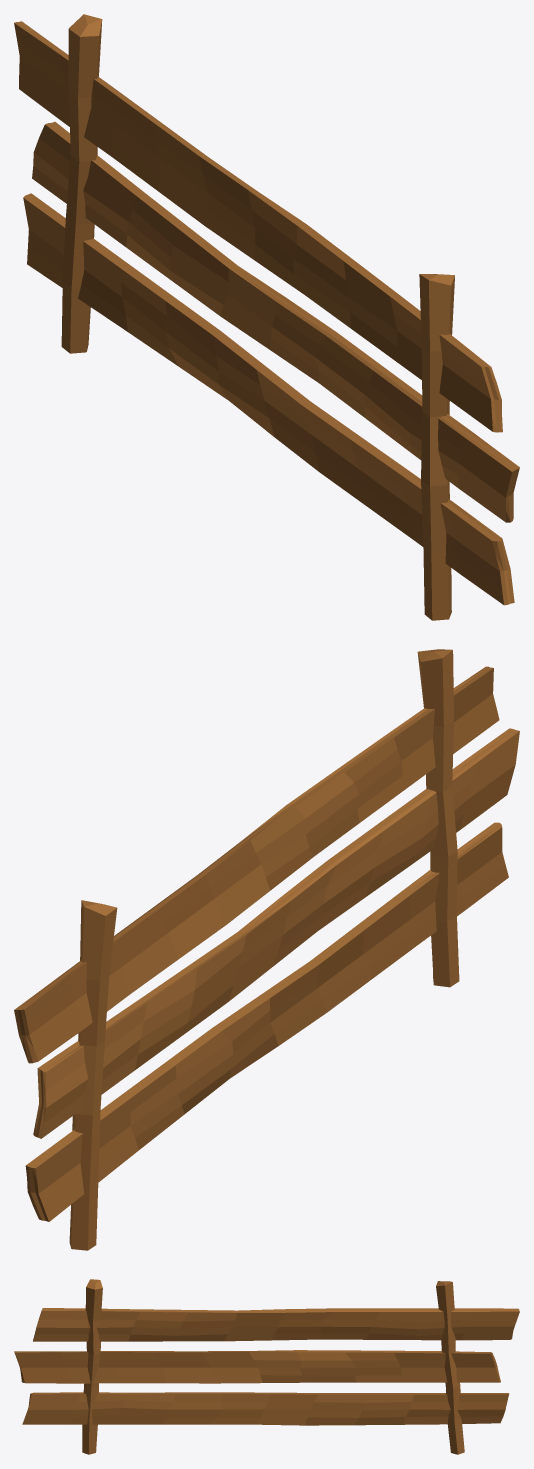
Rendered from fence.fbx.
3 views of the same model, one above another, from view 1: azimuth 30°, elevation 25°; view 2: azimuth 150°, elevation 25°; view 3: azimuth 270°, elevation 25° (orthographic). The views are drawn at different scales.
Visible parts, largest first — view 1: Latte, Latte_2, Latte_1, Cylinder_2, Cylinder; view 2: Latte, Latte_1, Latte_2, Cylinder_2, Cylinder; view 3: Latte_1, Latte_2, Latte, Cylinder, Cylinder_2.
Part boxes in pixels (<box>): Latte: <box>14,21,502,432</box>; Latte_2: <box>23,193,514,605</box>; Latte_1: <box>32,121,519,522</box>; Cylinder_2: <box>419,274,454,620</box>; Cylinder: <box>61,14,102,353</box>; Latte: <box>14,666,499,1063</box>; Latte_1: <box>33,728,519,1138</box>; Latte_2: <box>25,822,508,1221</box>; Cylinder_2: <box>417,649,459,987</box>; Cylinder: <box>69,900,117,1250</box>; Latte_1: <box>14,1350,500,1383</box>; Latte_2: <box>22,1392,509,1425</box>; Latte: <box>33,1308,519,1341</box>; Cylinder: <box>436,1281,464,1454</box>; Cylinder_2: <box>82,1279,102,1454</box>.
Bounding box in the file's own units: 7.91 × 69.67 × 187.
